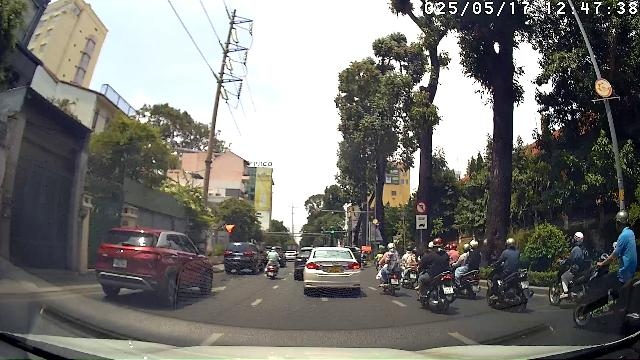123a-cam-re-trai: (415, 200, 427, 214)
